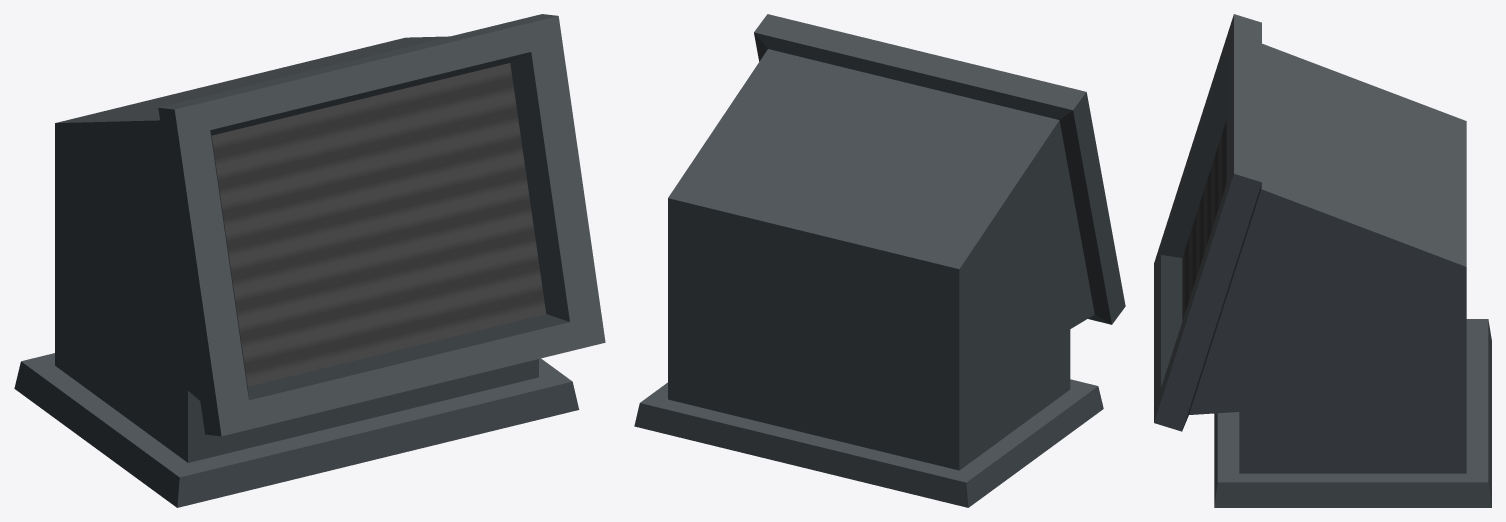
Rendered from AirConditioning_B1.fbx.
The picture shows the model from 3 angles, left to right: view 1: azimuth 30°, elevation 25°; view 2: azimuth 150°, elevation 25°; view 3: azimuth 270°, elevation 25°; orthographic projection. The views are drawn at different scales.
Parts seen in each view (by area): view 1: AirConditioning_B1; view 2: AirConditioning_B1; view 3: AirConditioning_B1.
Part boxes in pixels (x1,y1,x2,y2): AirConditioning_B1: [14, 14, 605, 507]; AirConditioning_B1: [634, 14, 1125, 507]; AirConditioning_B1: [1154, 14, 1491, 507].
Size of the model in its own units: 199 by 183 by 170.
